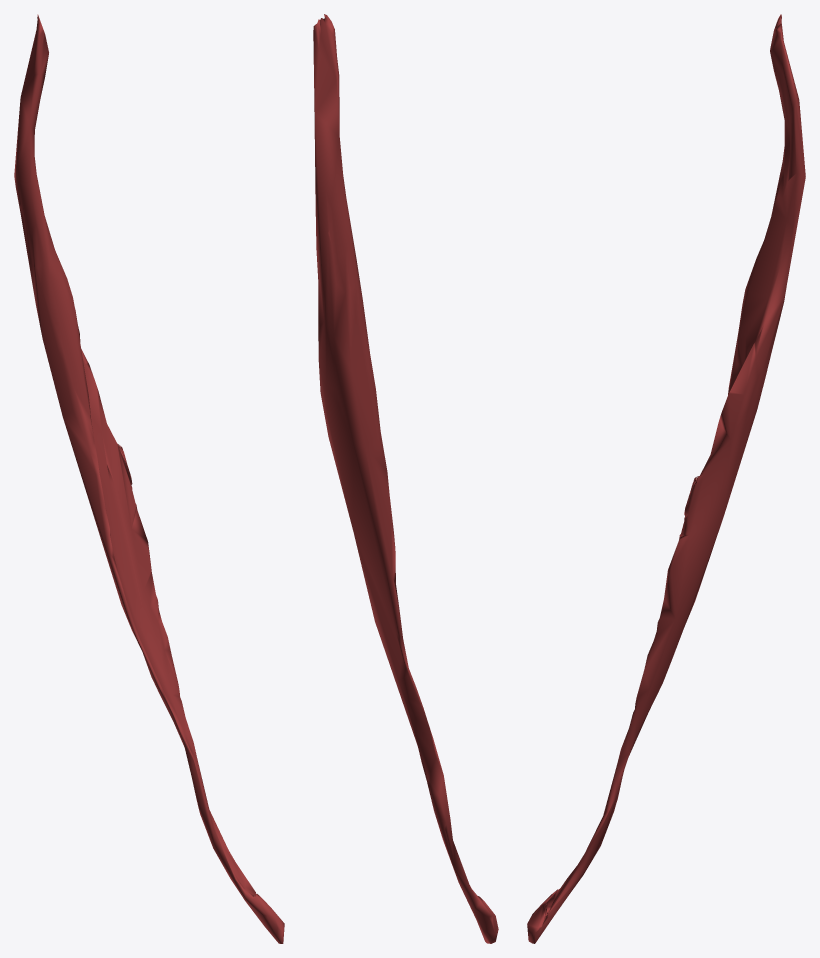
File: humeral-head-of-extensor-carpi-ulnaris-r.glb
3 views of the same model, side by side, from view 1: azimuth 90°, elevation 25°; view 2: azimuth 150°, elevation 25°; view 3: azimuth 270°, elevation 25° (orthographic). The views are drawn at different scales.
Parts seen in each view (by area): view 1: Humeral head of extensor carpi ulnaris.r; view 2: Humeral head of extensor carpi ulnaris.r; view 3: Humeral head of extensor carpi ulnaris.r.
Boxes of the visible parts, box(x1,y1,x2,y2) form: Humeral head of extensor carpi ulnaris.r: box(14, 14, 284, 943); Humeral head of extensor carpi ulnaris.r: box(313, 14, 498, 943); Humeral head of extensor carpi ulnaris.r: box(527, 14, 805, 943).
Bounding box in the file's own units: 0.0191 × 0.2889 × 0.0774.
